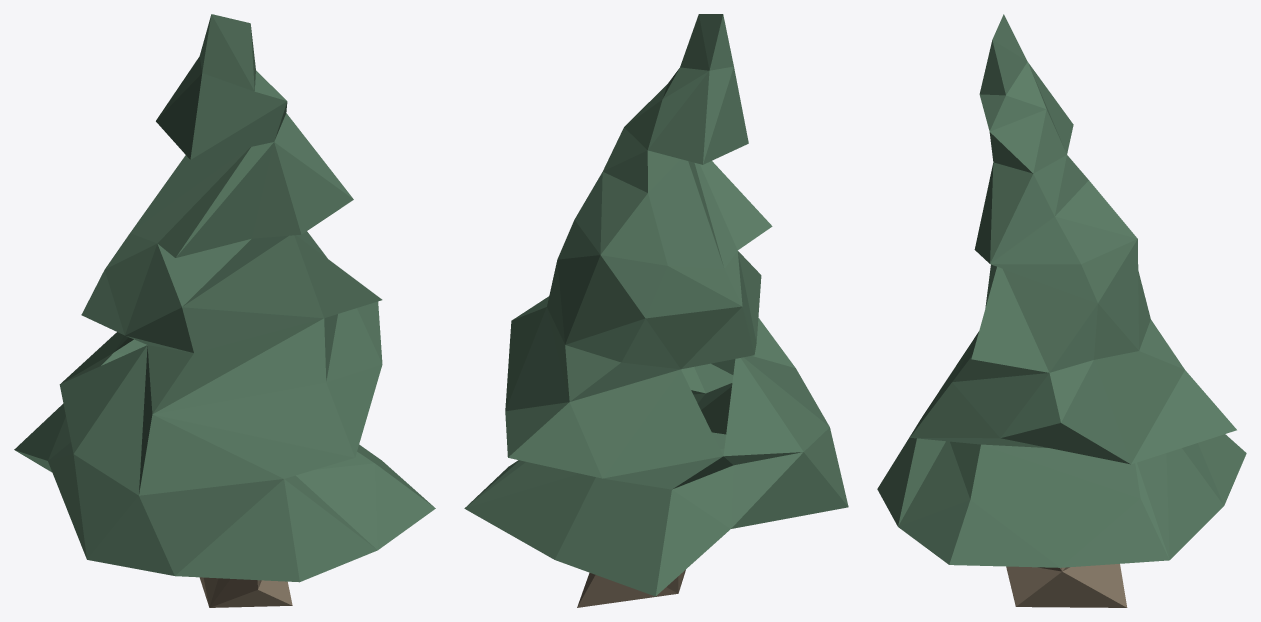
File: TreePine_03.FBX
3 views of the same model, side by side, from view 1: azimuth 30°, elevation 25°; view 2: azimuth 150°, elevation 25°; view 3: azimuth 270°, elevation 25° (orthographic). The views are drawn at different scales.
Visible parts, largest first — view 1: Tree_Pine_04; view 2: Tree_Pine_04; view 3: Tree_Pine_04.
Part boxes in pixels (left/top/right/bottom): Tree_Pine_04: left=14, top=14, right=435, bottom=607; Tree_Pine_04: left=464, top=14, right=848, bottom=607; Tree_Pine_04: left=877, top=14, right=1246, bottom=607.
Size of the model in its own units: 1.97 by 2.11 by 3.49.
